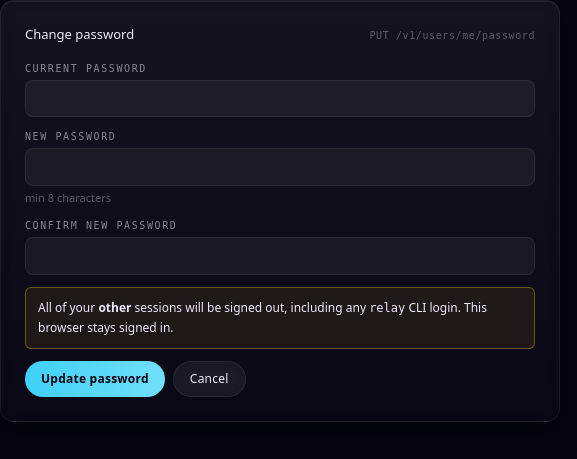
Scenario: a confirm mismatch blocks the request and is announced on the Confirm field
Type "old-secret" into the password field labelled "Current password" at (280, 98), box x1=25 y1=80 x2=535 y2=117
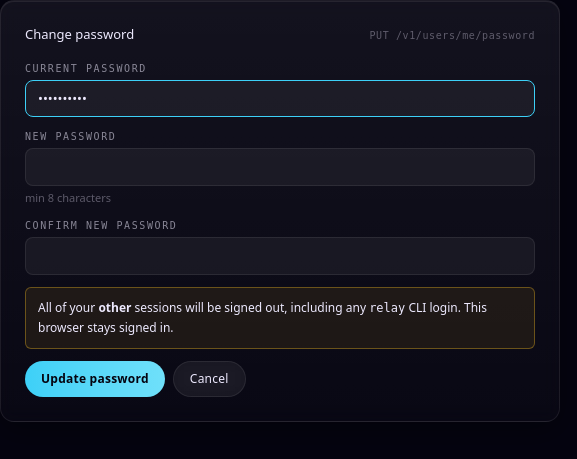
Type "new-secret-123" into the password field labelled "New password" at (280, 167), box x1=25 y1=148 x2=535 y2=186
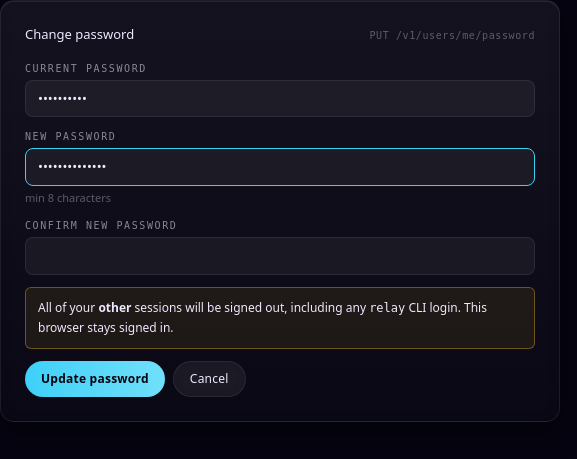
Type "new-secret-124" into the password field labelled "Confirm new password" at (280, 256), box x1=25 y1=237 x2=535 y2=274
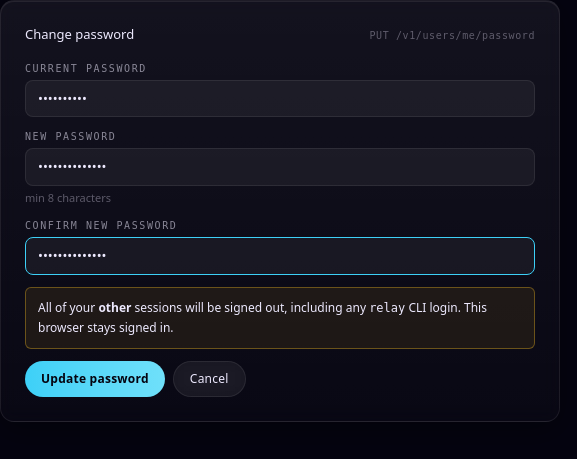
Click the button "Update password" at (95, 378), box x1=25 y1=360 x2=165 y2=396
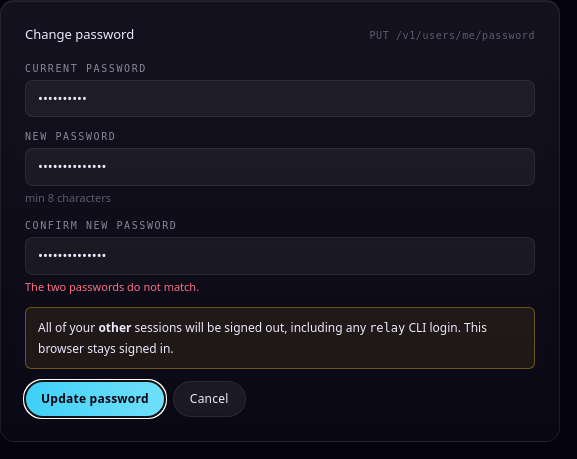
Result: the message reads "The two passwords do not match." at x1=25 y1=278 x2=199 y2=294
